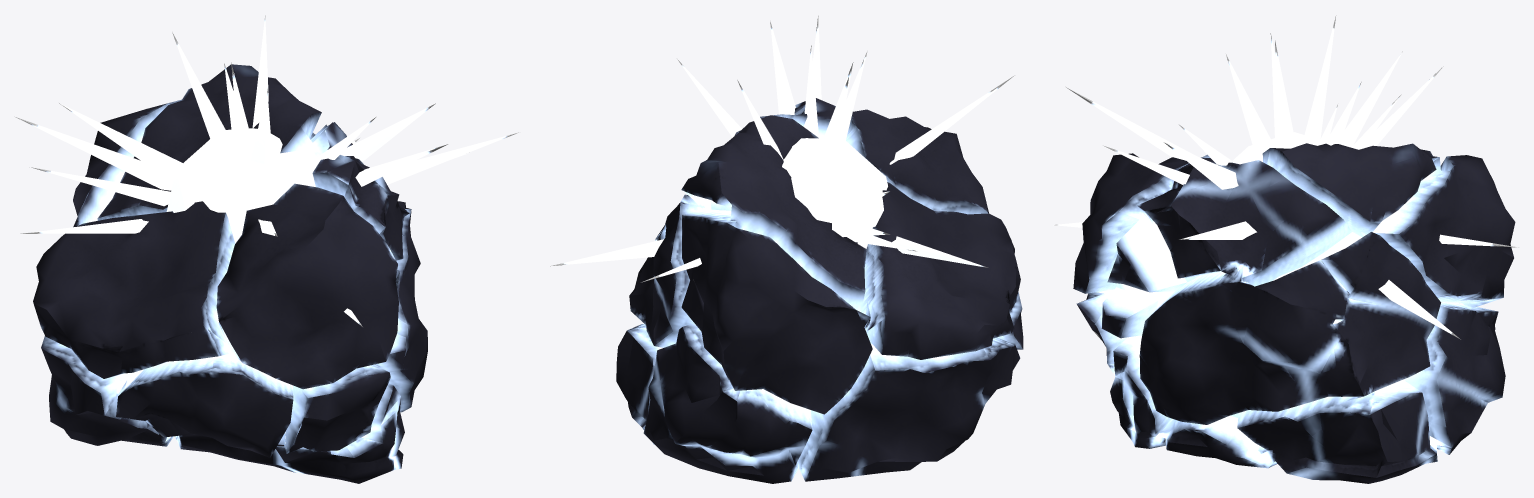
The model's file is mineral_supernova.fbx.
3 renders of one model, left to right at view 1: azimuth 30°, elevation 25°; view 2: azimuth 150°, elevation 25°; view 3: azimuth 270°, elevation 25°, orthographic. The views are drawn at different scales.
Visible parts, largest first — view 1: mineral_supernova, mineral_supernova_neon; view 2: mineral_supernova, mineral_supernova_neon; view 3: mineral_supernova, mineral_supernova_neon.
Boxes of the visible parts, left/top/right/bottom form: mineral_supernova: left=33, top=64, right=427, bottom=483; mineral_supernova_neon: left=15, top=15, right=518, bottom=326; mineral_supernova: left=616, top=98, right=1023, bottom=483; mineral_supernova_neon: left=550, top=16, right=1014, bottom=282; mineral_supernova: left=1073, top=143, right=1515, bottom=483; mineral_supernova_neon: left=1053, top=15, right=1516, bottom=339.
Size of the model in its own units: 3.4 by 3.06 by 3.44.
Materials: 2 (2 with a texture image).
